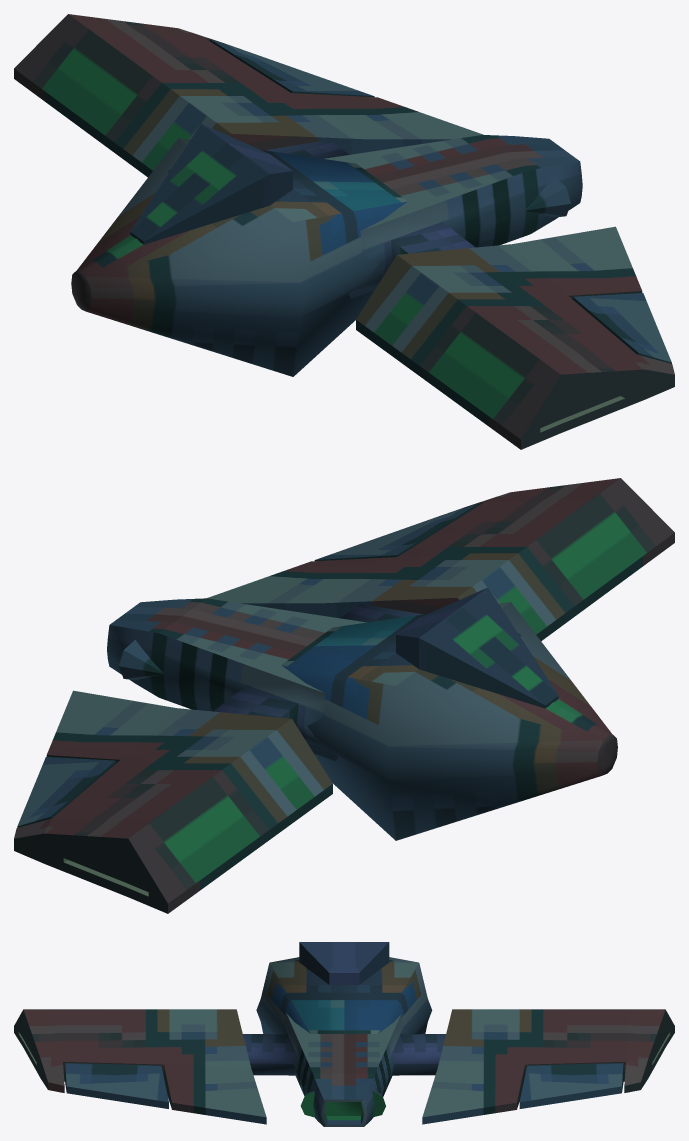
The model's file is shipfix2.gltf.
3 renders of one model, top to bottom at view 1: azimuth 30°, elevation 25°; view 2: azimuth 150°, elevation 25°; view 3: azimuth 270°, elevation 25°, orthographic. The views are drawn at different scales.
Visible parts, largest first — view 1: Spaceship; view 2: Spaceship; view 3: Spaceship.
Part boxes in pixels (<box>): Spaceship: <box>14,14,674,449</box>; Spaceship: <box>14,478,674,913</box>; Spaceship: <box>14,942,674,1126</box>.
Size of the model in its own units: 3.6 by 1.33 by 6.55.
Materials: 1 (1 with a texture image).
